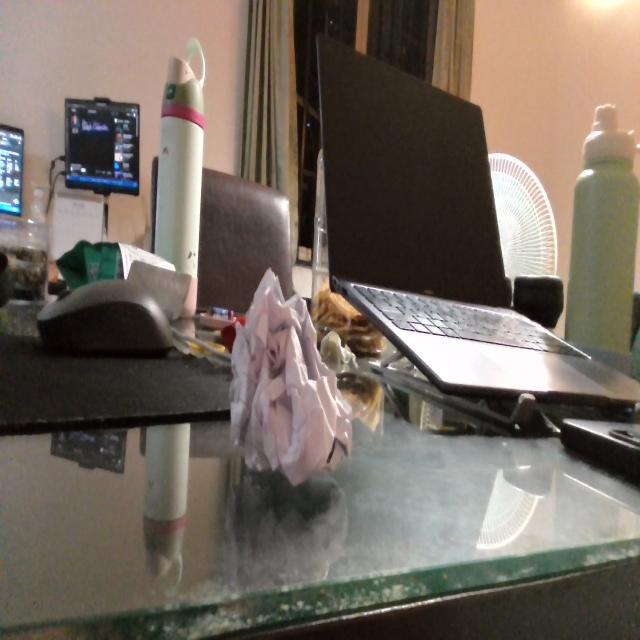crumpled_paper: (226, 264, 357, 494)
